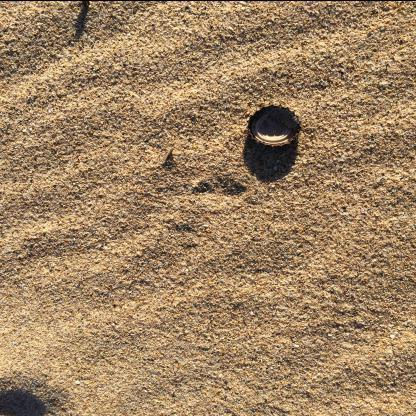metal: (247, 104, 303, 148)
